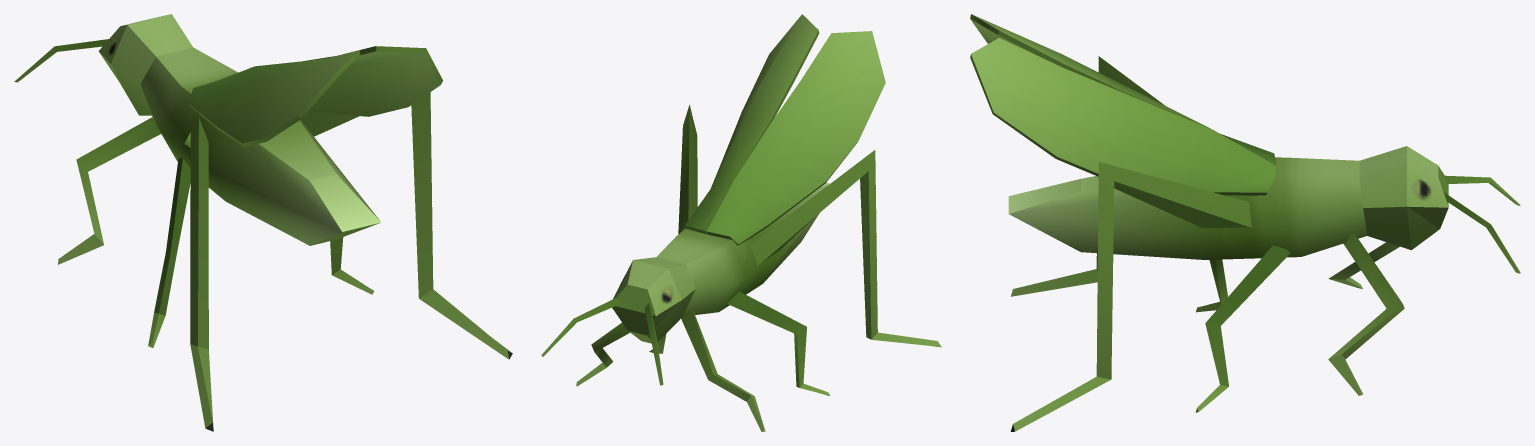
File: Grassfoper_01.FBX
The picture shows the model from 3 angles, left to right: view 1: azimuth 30°, elevation 25°; view 2: azimuth 150°, elevation 25°; view 3: azimuth 270°, elevation 25°; orthographic projection. The views are drawn at different scales.
Visible parts, largest first — view 1: Insect_01, Insect_Wing_Left_01, Insect_Wing_Right_01; view 2: Insect_01, Insect_Wing_Left_01, Insect_Wing_Right_01; view 3: Insect_01, Insect_Wing_Right_01, Insect_Wing_Left_01.
Part boxes in pixels (left/top/right/bottom): Insect_01: left=14, top=14, right=512, bottom=431; Insect_Wing_Left_01: left=189, top=50, right=360, bottom=146; Insect_Wing_Right_01: left=256, top=46, right=442, bottom=116; Insect_01: left=541, top=105, right=941, bottom=431; Insect_Wing_Left_01: left=706, top=31, right=885, bottom=245; Insect_Wing_Right_01: left=681, top=14, right=819, bottom=234; Insect_01: left=1008, top=56, right=1520, bottom=431; Insect_Wing_Right_01: left=970, top=38, right=1276, bottom=195; Insect_Wing_Left_01: left=970, top=14, right=1276, bottom=165.
Bounding box in the file's own units: 25.23 × 27.64 × 41.75.
